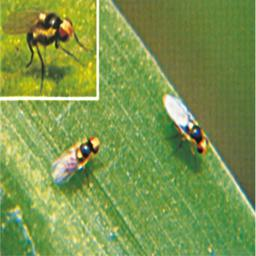liriomyza: (1, 8, 92, 93), (161, 93, 210, 160), (49, 135, 102, 187)
